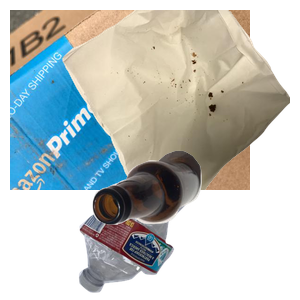cardboard: (10, 10, 250, 190)
glass: (90, 148, 300, 300)
plastic: (76, 131, 280, 300)
trash: (60, 10, 300, 190)
